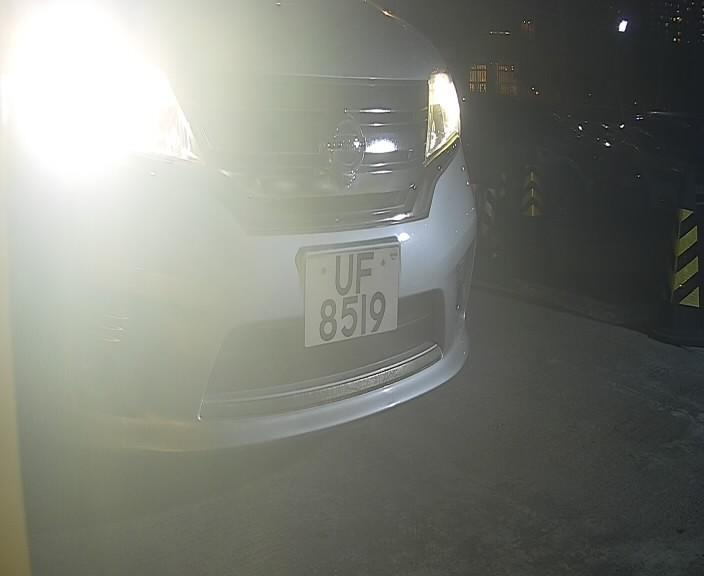License Plate: (290, 240, 403, 358)
